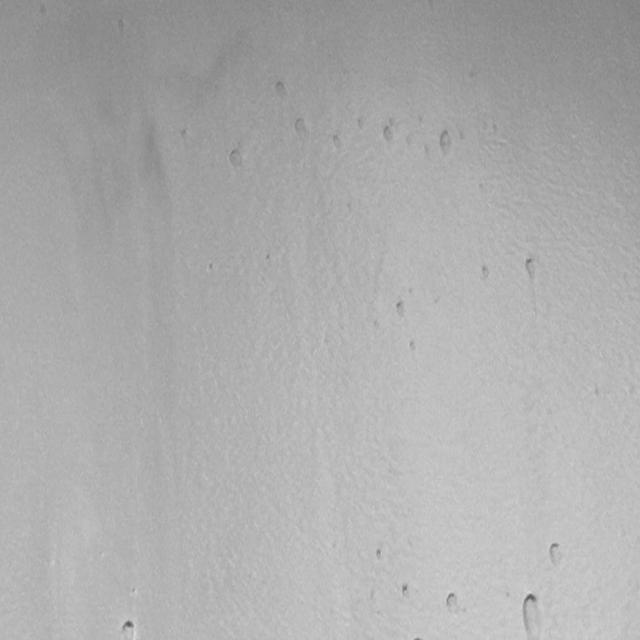pin holes: (520, 590, 552, 638), (442, 591, 465, 618), (436, 128, 456, 158), (545, 542, 566, 570), (225, 146, 247, 172), (271, 77, 293, 102), (522, 255, 542, 282), (290, 116, 310, 141), (397, 581, 416, 604), (379, 123, 397, 147), (120, 619, 140, 640), (177, 124, 196, 146), (393, 298, 410, 320), (330, 131, 346, 153), (36, 1, 52, 20), (479, 263, 493, 282), (373, 546, 387, 564), (262, 251, 276, 269), (203, 262, 218, 278), (408, 338, 420, 356), (356, 116, 369, 132), (416, 114, 427, 128)
